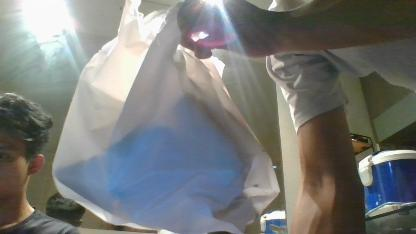Plastic Bag: (52, 0, 278, 234)
